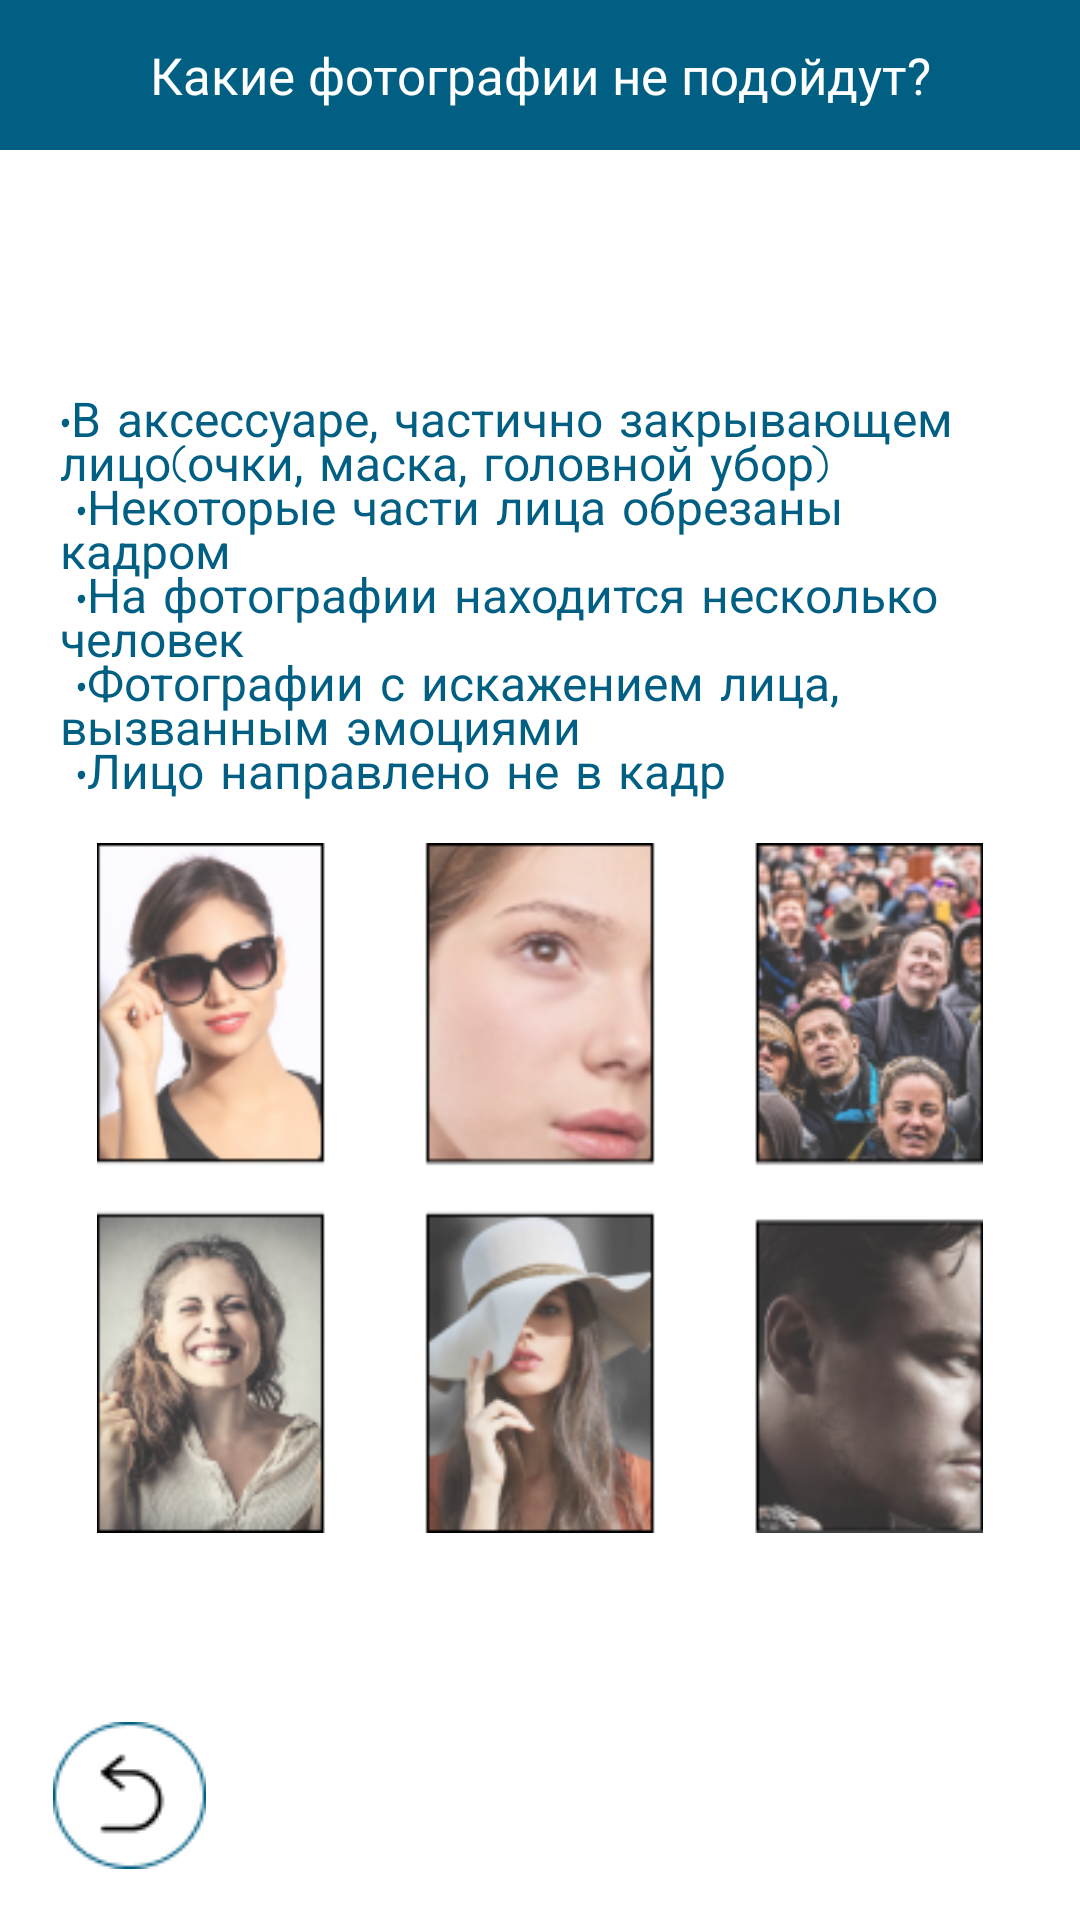

Screen size 1080 × 1920. Icon name, then its box in pixels as (x1,y1,x2,y2):
warning back: (53,1722,206,1869)
